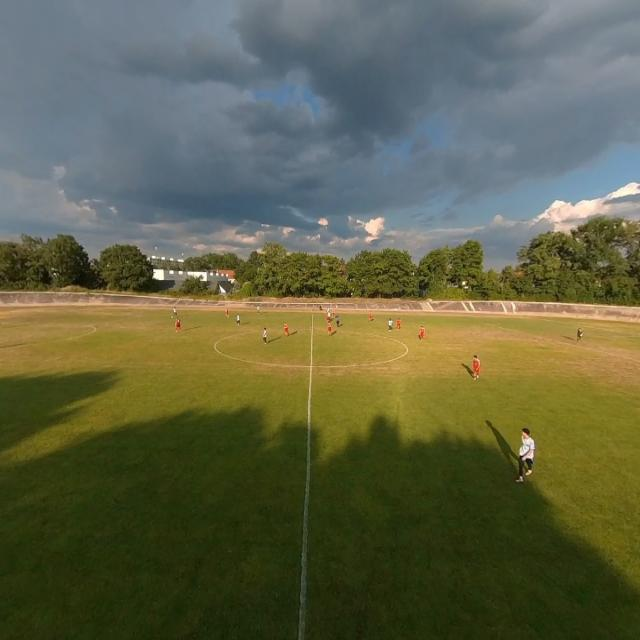ball: (171, 316, 173, 318)
